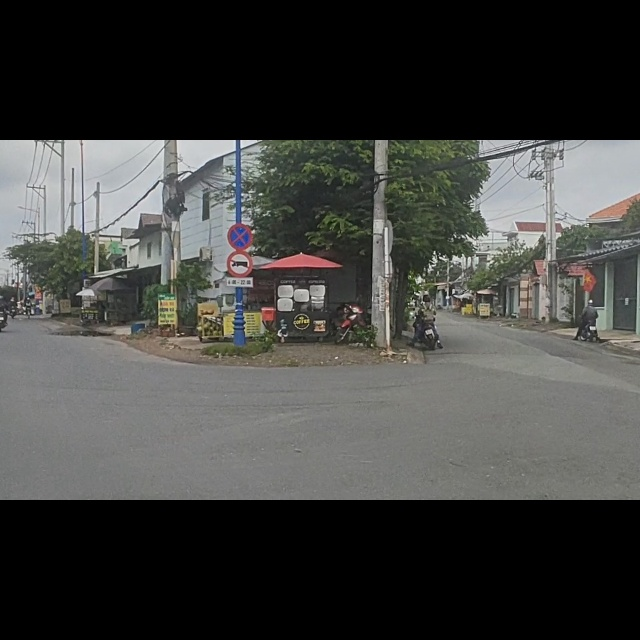bien_cam: (227, 197, 253, 244), (228, 148, 253, 196)
